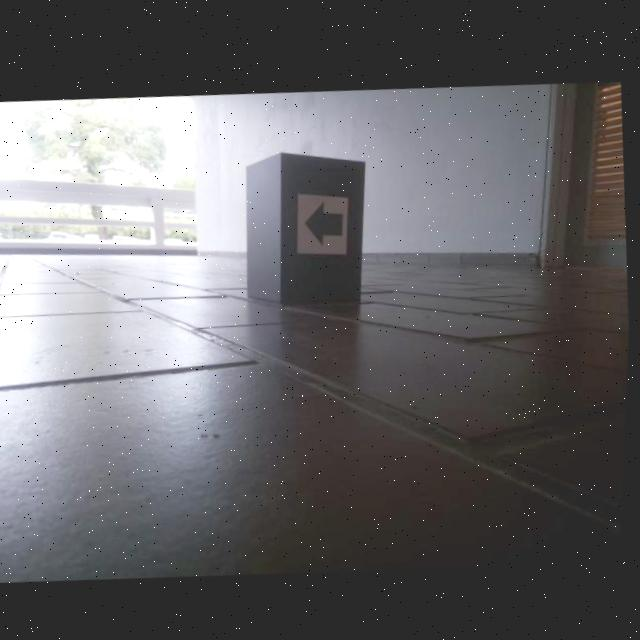LEFT: (305, 198, 345, 245)
